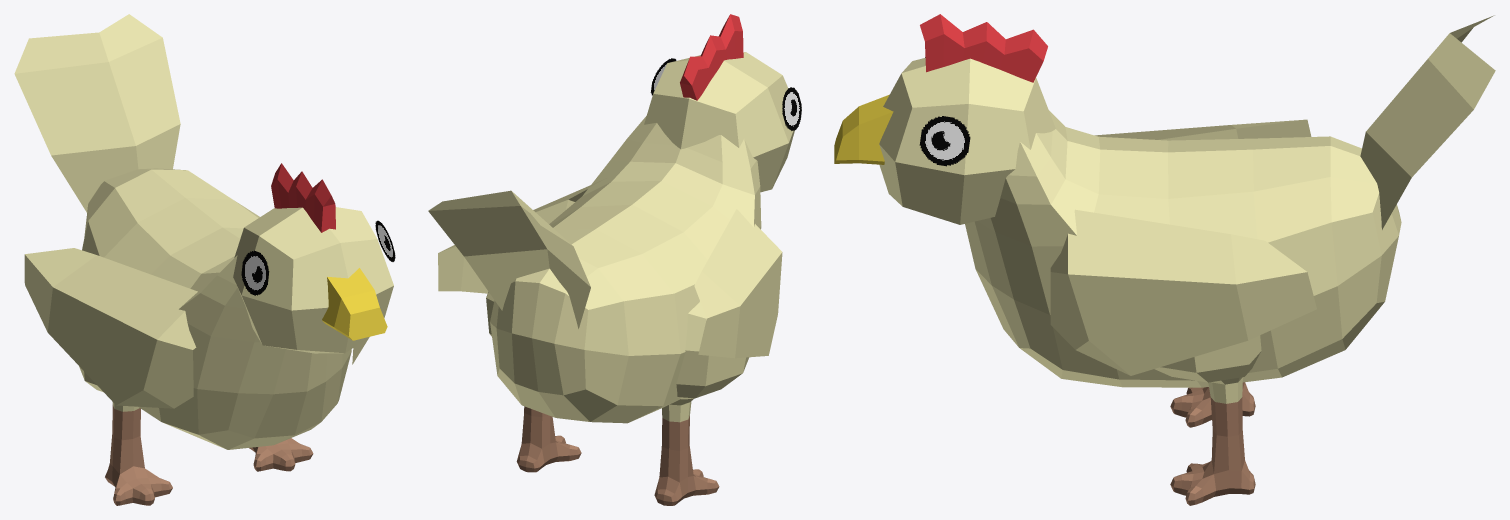
Rendered from chicken.fbx.
3 views of the same model, side by side, from view 1: azimuth 30°, elevation 25°; view 2: azimuth 150°, elevation 25°; view 3: azimuth 270°, elevation 25° (orthographic). The views are drawn at different scales.
Visible parts, largest first — view 1: Cube, Plane, Plane.003, Cube.001, Cube.003, Cube.004, Plane.001, Cube.002, Plane.005, Plane.004; view 2: Cube, Cube.001, Plane, Plane.003, Cube.003, Cube.002, Plane.001, Plane.002, Plane.005; view 3: Cube, Plane.002, Cube.001, Plane, Cube.002, Plane.001, Cube.004, Plane.003, Plane.004, Cube.003.
Part boxes in pixels (box(x1,y1,x2,y2)): Cube: box(82, 168, 351, 449); Plane: box(14, 14, 180, 212); Plane.003: box(24, 248, 197, 408); Cube.001: box(233, 207, 393, 353); Cube.003: box(79, 366, 172, 505); Cube.004: box(322, 268, 387, 340); Plane.001: box(271, 163, 335, 232); Cube.002: box(249, 438, 313, 471); Plane.005: box(241, 250, 269, 295); Plane.004: box(375, 220, 395, 261); Cube: box(490, 116, 761, 423); Cube.001: box(644, 52, 794, 192); Plane: box(428, 190, 590, 328); Plane.003: box(694, 209, 782, 358); Cube.003: box(654, 301, 749, 505); Cube.002: box(486, 292, 581, 472); Plane.001: box(680, 14, 743, 100); Plane.002: box(438, 178, 606, 293); Plane.005: box(782, 87, 801, 130); Cube: box(965, 110, 1401, 387); Plane.002: box(1050, 209, 1316, 375); Cube.001: box(879, 57, 1055, 224); Plane: box(1360, 15, 1495, 229); Cube.002: box(1154, 335, 1261, 505); Plane.001: box(920, 14, 1047, 82); Cube.004: box(834, 94, 893, 164); Plane.003: box(1095, 119, 1311, 140); Plane.004: box(919, 116, 970, 166); Cube.003: box(1170, 382, 1255, 427).
Bounding box in the file's own units: 392 × 518 × 704.
